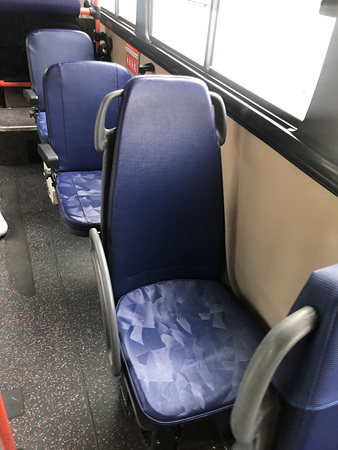seat: (104, 77, 248, 417)
